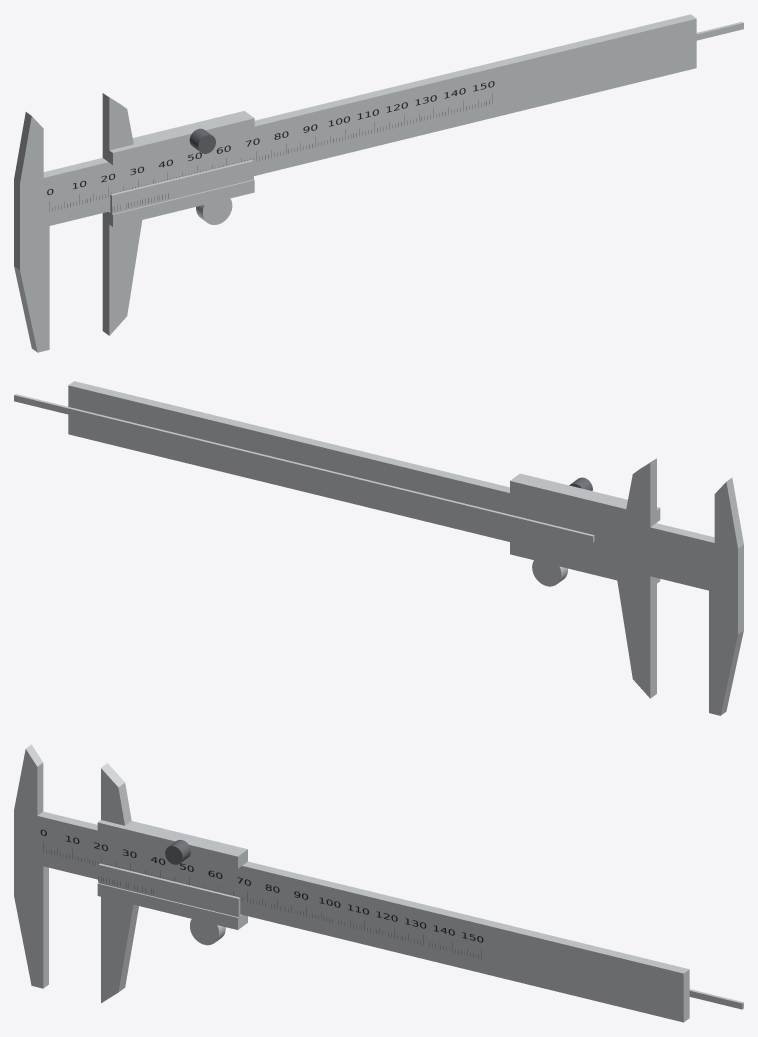
Rendered from mitutoyo_530_104.glb.
3 renders of one model, top to bottom at view 1: azimuth 30°, elevation 25°; view 2: azimuth 150°, elevation 25°; view 3: azimuth 330°, elevation 25°, orthographic.
Visible parts, largest first — view 1: beam, fixed_outer_jaw, moving_outer_jaw, vernier_face, slider_upper, slider_lower, fixed_inner_jaw, moving_inner_jaw, metric_numerals, thumb_grip; view 2: beam, depth_rod, moving_outer_jaw, fixed_outer_jaw, slider_back, slider_upper, moving_inner_jaw, fixed_inner_jaw, slider_lower, thumb_grip; view 3: beam, fixed_outer_jaw, moving_outer_jaw, vernier_face, slider_upper, slider_lower, fixed_inner_jaw, moving_inner_jaw, metric_numerals, thumb_grip, lock_screw.
Part boxes in pixels (<box>): beam: <box>14,14,696,233</box>; fixed_outer_jaw: <box>14,226,49,352</box>; moving_outer_jaw: <box>102,211,142,335</box>; vernier_face: <box>110,160,253,217</box>; slider_upper: <box>103,111,254,164</box>; slider_lower: <box>102,179,254,226</box>; fixed_inner_jaw: <box>14,112,43,183</box>; moving_inner_jaw: <box>102,93,133,162</box>; metric_numerals: <box>47,81,494,195</box>; thumb_grip: <box>196,198,232,224</box>; beam: <box>68,381,743,597</box>; depth_rod: <box>14,394,594,542</box>; moving_outer_jaw: <box>615,568,656,698</box>; fixed_outer_jaw: <box>709,590,743,715</box>; slider_back: <box>510,484,650,576</box>; slider_upper: <box>510,473,660,526</box>; moving_inner_jaw: <box>625,458,656,527</box>; fixed_inner_jaw: <box>714,477,743,548</box>; slider_lower: <box>510,542,660,587</box>; thumb_grip: <box>532,560,567,586</box>; beam: <box>14,810,689,1022</box>; fixed_outer_jaw: <box>14,859,48,988</box>; moving_outer_jaw: <box>101,897,138,1003</box>; vernier_face: <box>98,863,240,922</box>; slider_upper: <box>97,820,247,868</box>; slider_lower: <box>97,883,247,929</box>; fixed_inner_jaw: <box>14,744,43,815</box>; moving_inner_jaw: <box>101,763,131,825</box>; metric_numerals: <box>40,829,483,942</box>; thumb_grip: <box>190,919,225,945</box>; lock_screw: <box>165,840,190,864</box>.
Size of the model in its own units: 0.247 by 0.077 by 0.012.
Materials: 4 (1 with a texture image).
